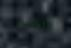four: (30, 20, 35, 28)
seven: (17, 20, 22, 28), (23, 20, 28, 28)
six: (36, 19, 41, 27)
three: (42, 19, 47, 27)
zero: (48, 19, 53, 27)
